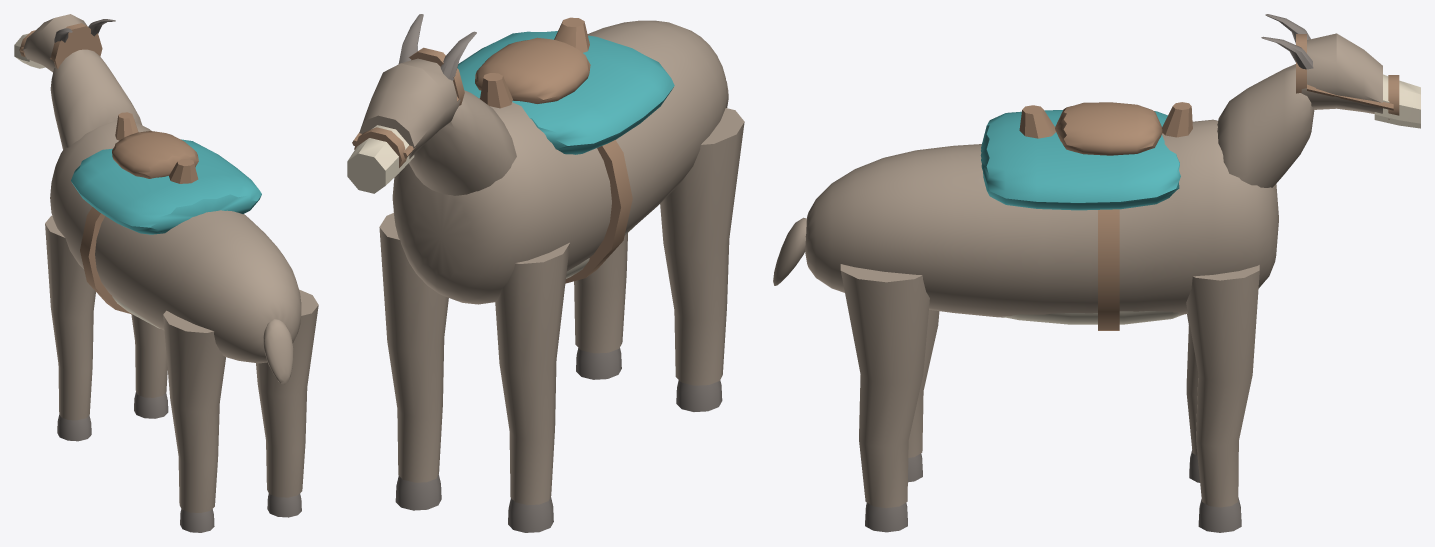
File: SM_Mount_Steppe.glb
3 views of the same model, side by side, from view 1: azimuth 30°, elevation 25°; view 2: azimuth 150°, elevation 25°; view 3: azimuth 270°, elevation 25° (orthographic). The views are drawn at different scales.
Parts seen in each view (by area): view 1: SM_Mount_Steppe; view 2: SM_Mount_Steppe; view 3: SM_Mount_Steppe.
Part boxes in pixels (x1,y1,x2,y2): SM_Mount_Steppe: (14, 14, 318, 532); SM_Mount_Steppe: (347, 14, 744, 532); SM_Mount_Steppe: (773, 14, 1420, 532).
Bounding box in the file's own units: 0.7507 × 1.93 × 2.39.
